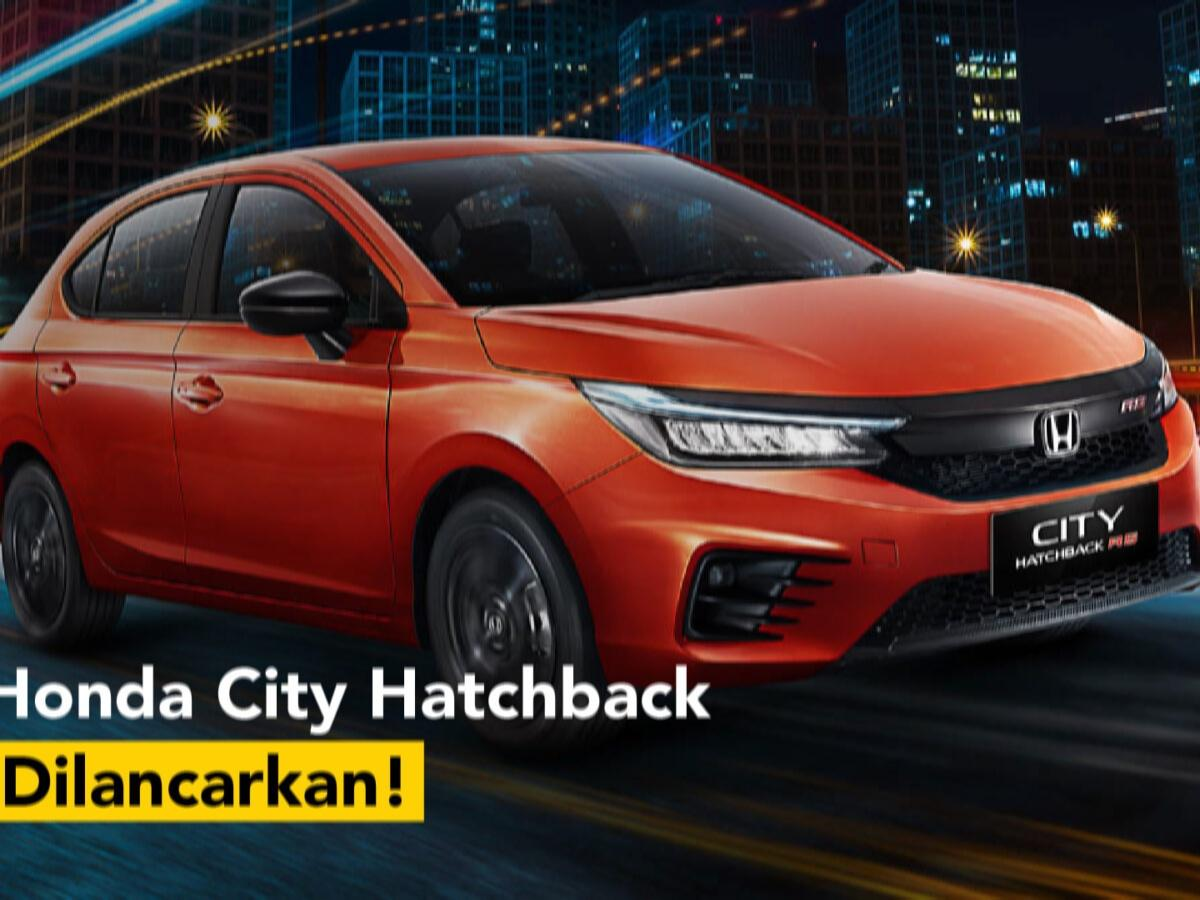Car hood: (459, 259, 1157, 404)
Driver-s door - -F-R-: (154, 137, 411, 639)
Fender - -F-R-: (366, 289, 652, 648)
Fender - -R-R-: (0, 242, 83, 500)
Front bumper: (516, 393, 1200, 691)
Headlight - -L-: (1147, 346, 1183, 418)
Headlight - -R-: (562, 372, 921, 472)
Passenger-s door - -R-R-: (26, 150, 223, 616)
Side bumper - -R-: (70, 513, 418, 662)
Side mirror - -R-: (239, 273, 359, 361)
